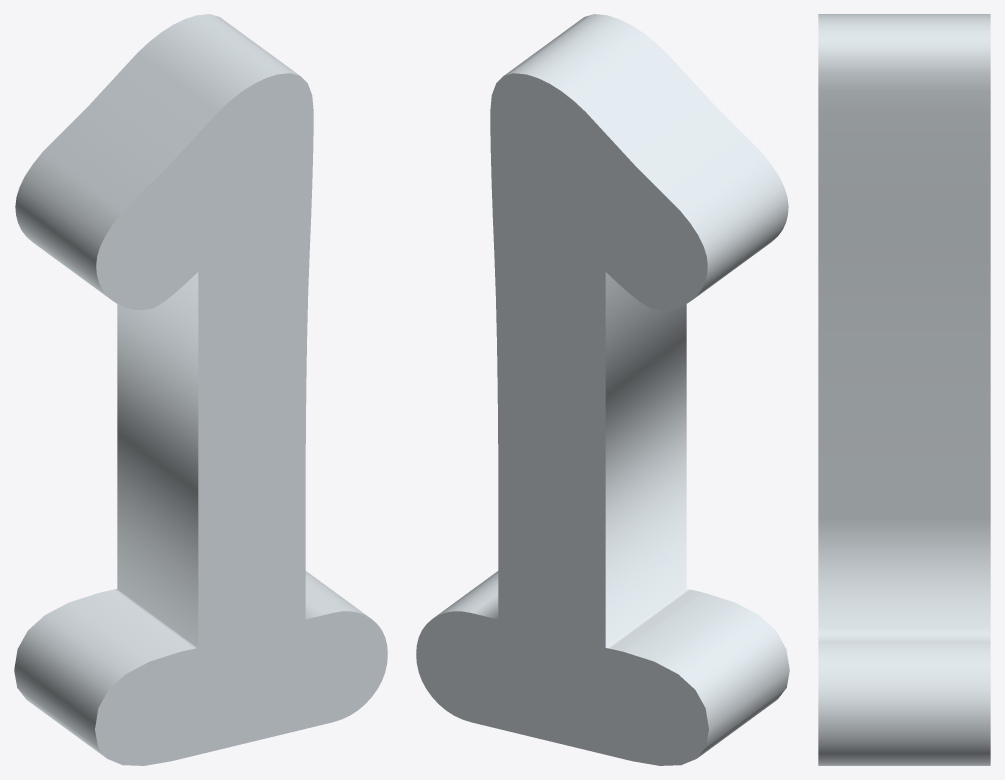
The model's file is NumberOne.fbx.
3 views of the same model, side by side, from view 1: azimuth 30°, elevation 25°; view 2: azimuth 150°, elevation 25°; view 3: azimuth 270°, elevation 25° (orthographic). The views are drawn at different scales.
Parts seen in each view (by area): view 1: Text.002; view 2: Text.002; view 3: Text.002.
Part boxes in pixels (<box>): Text.002: <box>14,14,387,765</box>; Text.002: <box>416,14,789,765</box>; Text.002: <box>818,14,990,765</box>.
Size of the model in its own units: 25.12 by 54.2 by 12.
